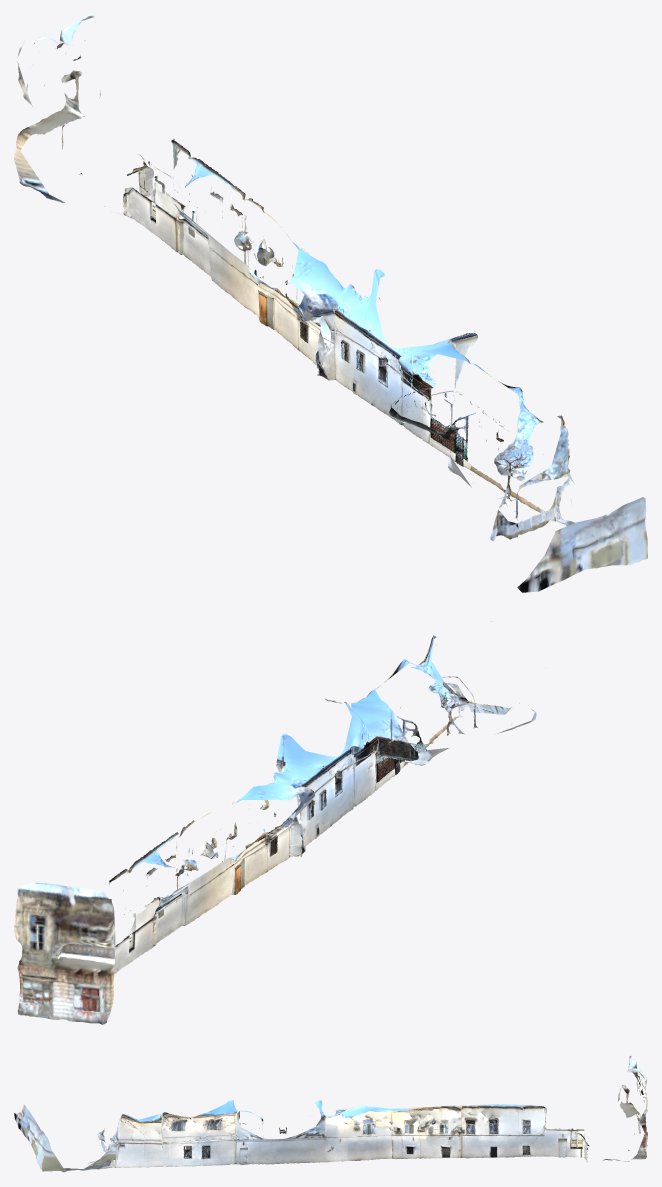
The picture shows the model from 3 angles, top to bottom: view 1: azimuth 30°, elevation 25°; view 2: azimuth 150°, elevation 25°; view 3: azimuth 270°, elevation 25°; orthographic projection. The views are drawn at different scales.
Visible parts, largest first — view 1: Object_4; view 2: Object_4; view 3: Object_4.
Boxes of the visible parts, x1=… form: Object_4: x1=14, y1=14, x2=647, y2=592; Object_4: x1=14, y1=621, x2=536, y2=1024; Object_4: x1=14, y1=1054, x2=647, y2=1172.
Bounding box in the file's own units: 10.8 × 10.35 × 64.84.
1 material, 1 textured.
